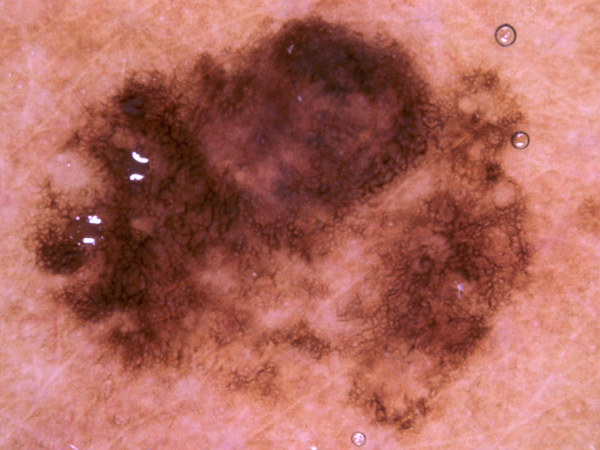Detected Lesion: (27, 11, 542, 430)
